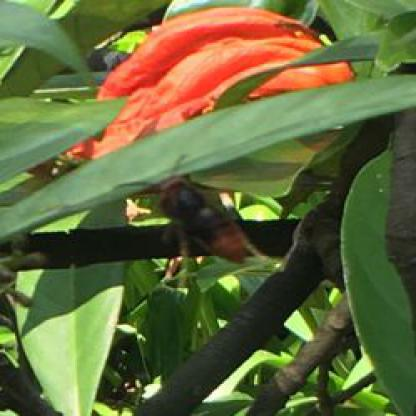Asian Hornet: (152, 150, 252, 275)
